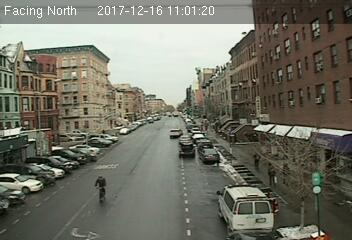bicycle: (94, 173, 108, 207)
car: (200, 148, 218, 162), (180, 141, 195, 156), (170, 128, 182, 138)
pedestrian: (268, 163, 278, 187), (253, 152, 260, 170)
police: (215, 180, 273, 232)
